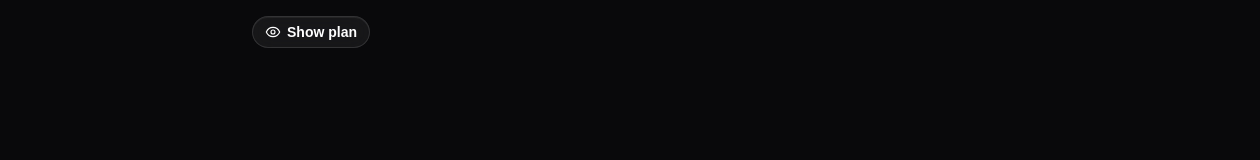
Test case: CoachWorkspace layout › opens a restored conversation in chat despite historical show requests (mobile: false)
Expected: the button "Save" is not shown
Click the button "Show plan": point(311, 32) top-left (252, 16), bottom-right (370, 48)
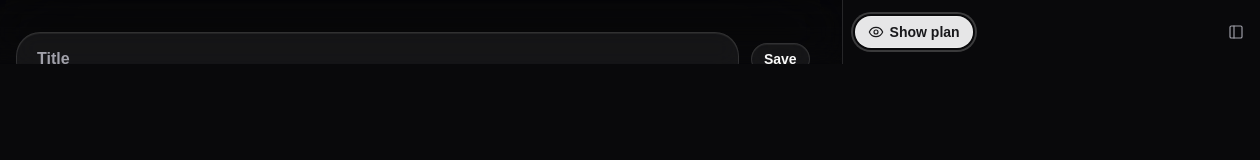
Expected: the button "Save" is shown, top-left (751, 43), bottom-right (810, 64)
